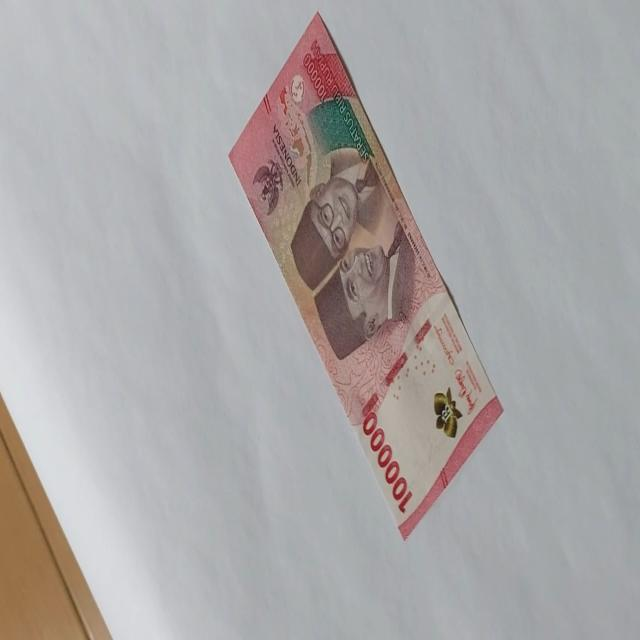seratus ribu rupiah: (228, 9, 504, 540)
